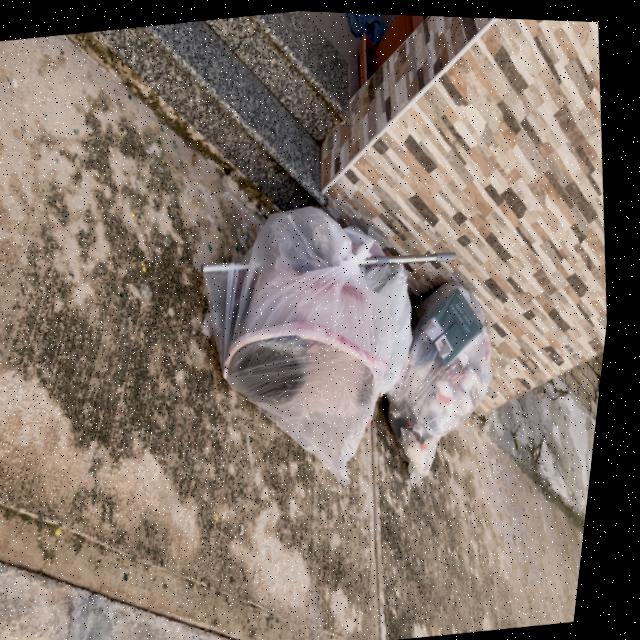Recycled Waste -Grey or Green Bag-: (181, 187, 454, 504), (371, 272, 523, 489)
